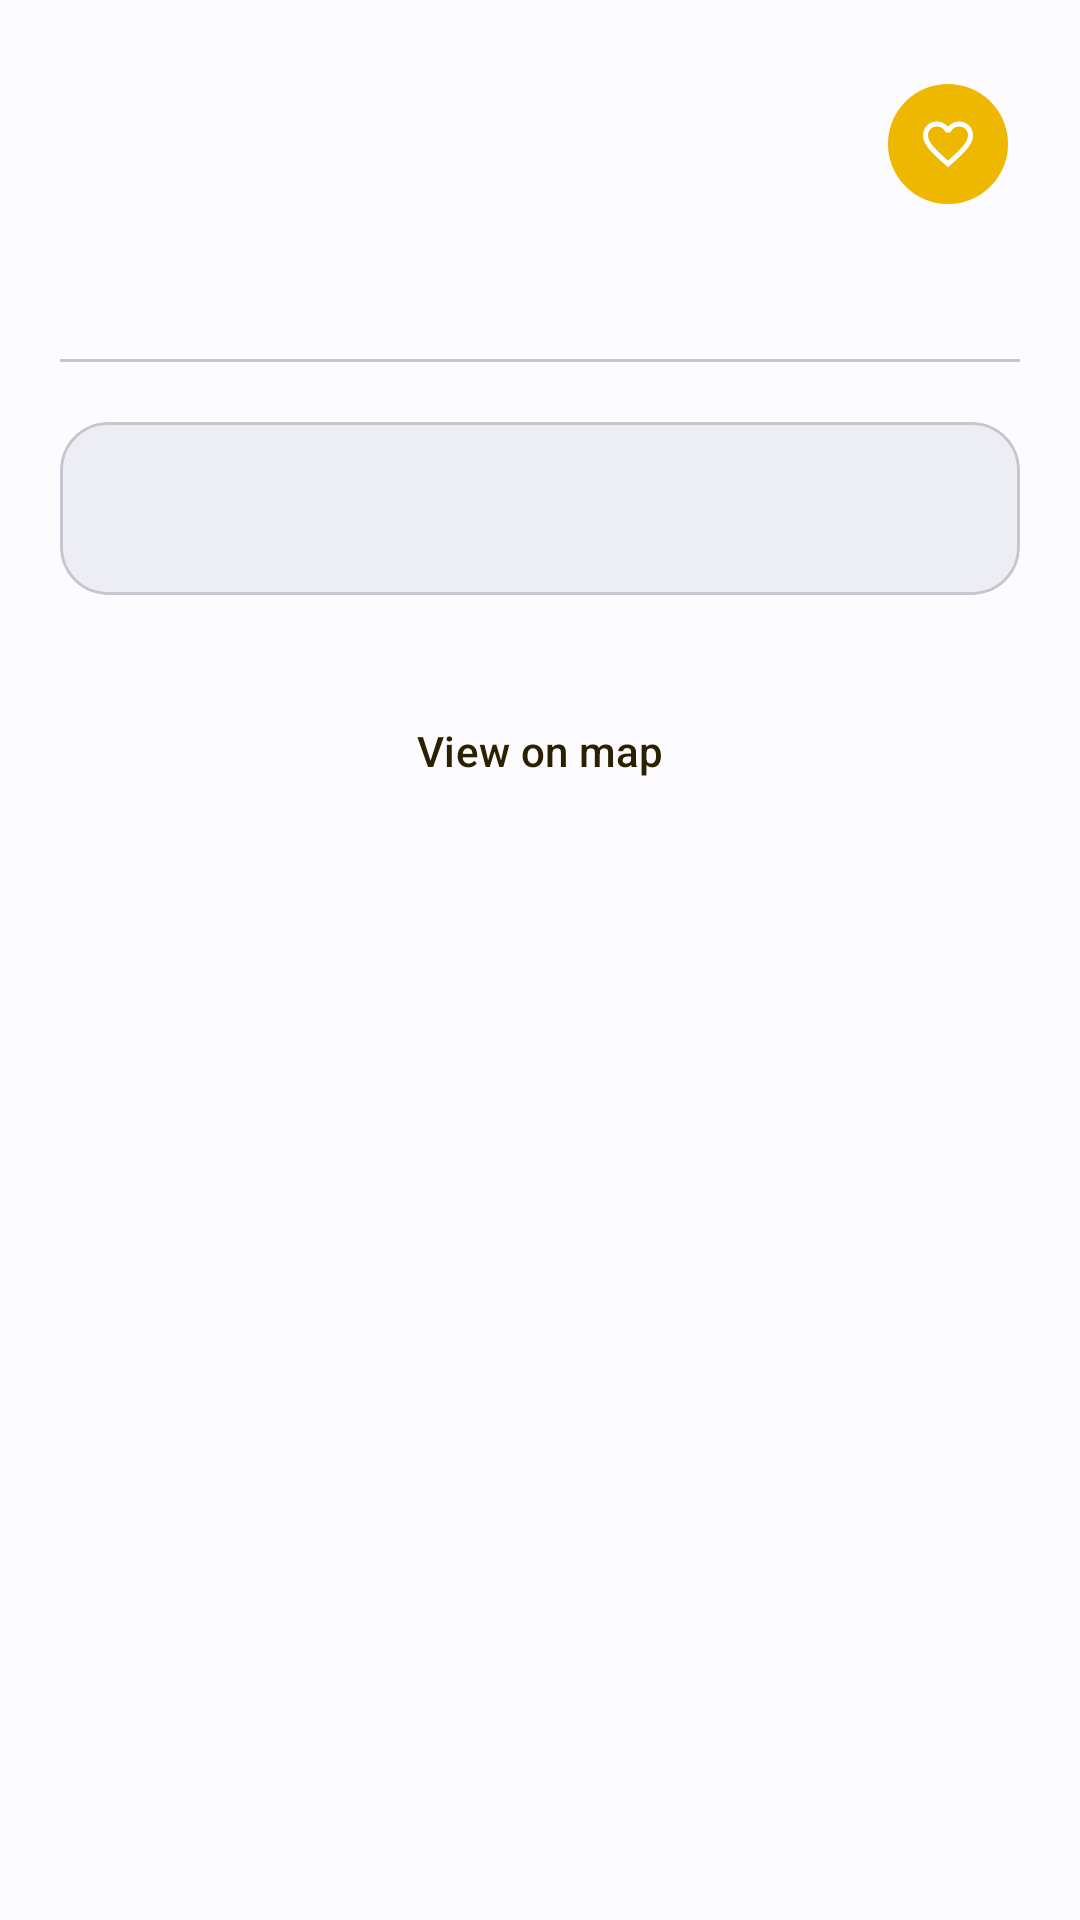

Icon bounding boxes for this 1080 x 1920 phone screenshot, format Rect(x1, y1, x2, y2):
Add or remove from favorites: Rect(888, 84, 1008, 204)
